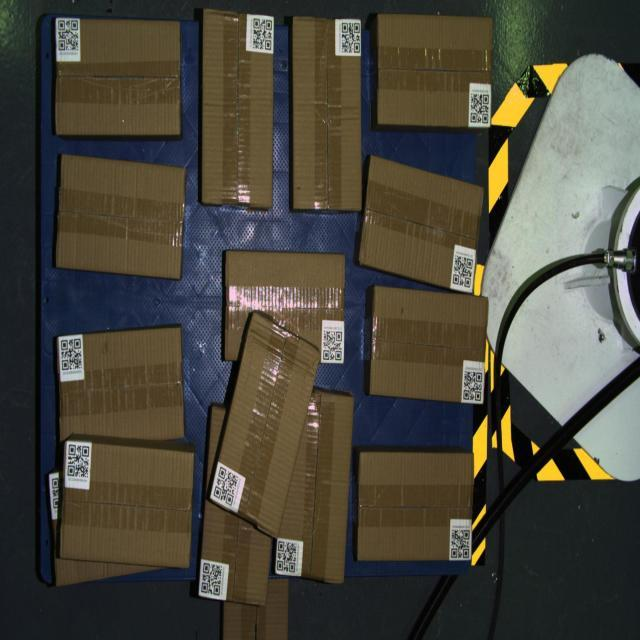box: (208, 310, 322, 540), (59, 438, 194, 569), (358, 155, 484, 295), (55, 154, 187, 280), (275, 390, 354, 584), (202, 8, 276, 208), (56, 18, 180, 136), (57, 327, 184, 442), (370, 286, 488, 404), (224, 250, 346, 363), (293, 16, 362, 211), (378, 13, 492, 128), (356, 451, 474, 562)
